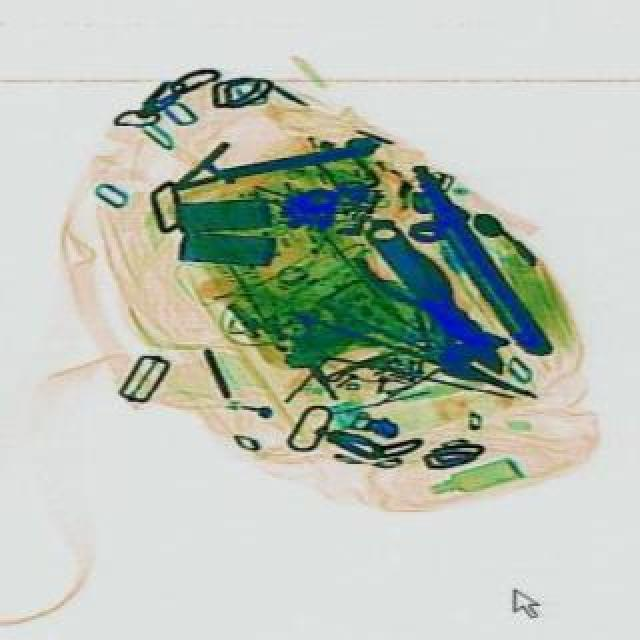scissors: (334, 204, 520, 396)
wrench: (342, 220, 518, 388), (288, 294, 538, 404)
